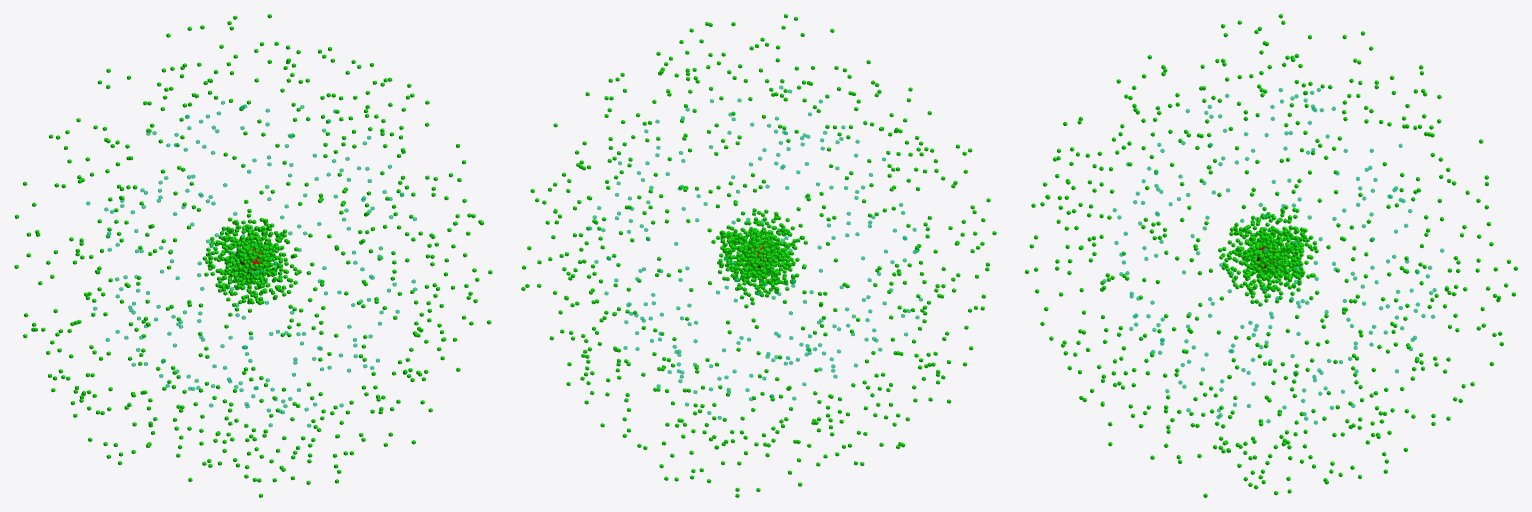
Rendered from schrodinger-quantum-cloud.glb.
3 renders of one model, left to right at view 1: azimuth 30°, elevation 25°; view 2: azimuth 150°, elevation 25°; view 3: azimuth 270°, elevation 25°, orthographic. The views are drawn at different scales.
Visible parts, largest first — view 1: Animated Helium 2s Orbital Particle Cloud; view 2: Animated Helium 2s Orbital Particle Cloud; view 3: Animated Helium 2s Orbital Particle Cloud.
Boxes of the visible parts, bbox=[...] form: Animated Helium 2s Orbital Particle Cloud: bbox=[14, 14, 492, 497]; Animated Helium 2s Orbital Particle Cloud: bbox=[521, 14, 996, 497]; Animated Helium 2s Orbital Particle Cloud: bbox=[1025, 14, 1517, 497].
Bounding box in the file's own units: 1.08 × 1.08 × 1.09.
